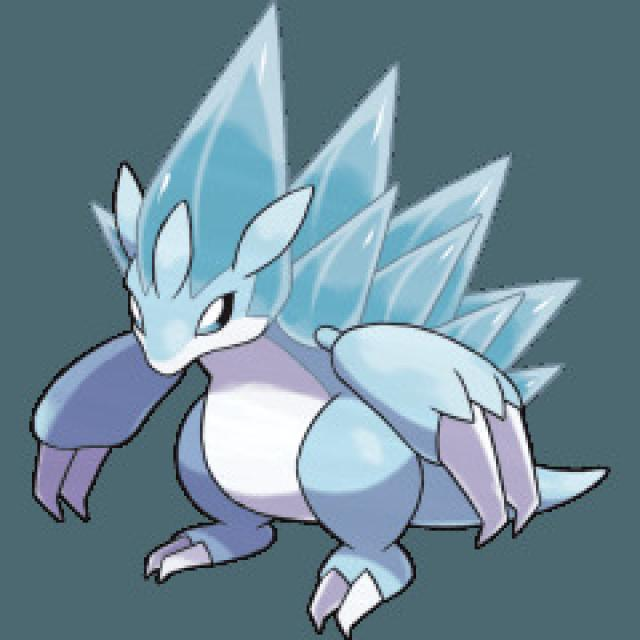Alolan: (72, 125, 556, 570)
